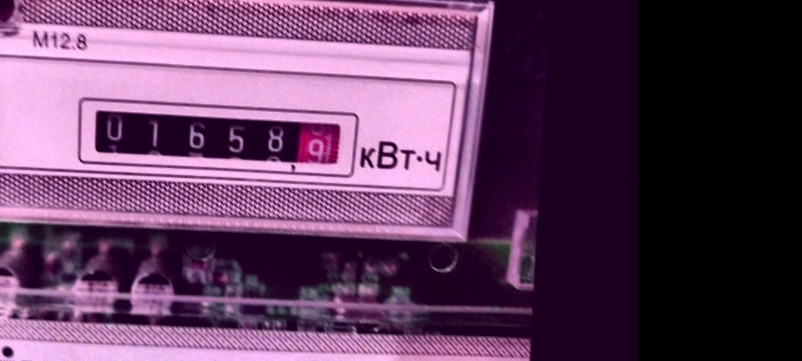0: (103, 107, 125, 140)
1: (146, 114, 161, 145)
5: (226, 119, 247, 152)
6: (186, 116, 208, 148)
8: (265, 119, 286, 152)
9: (305, 133, 324, 160)
screen: (68, 85, 363, 180)
